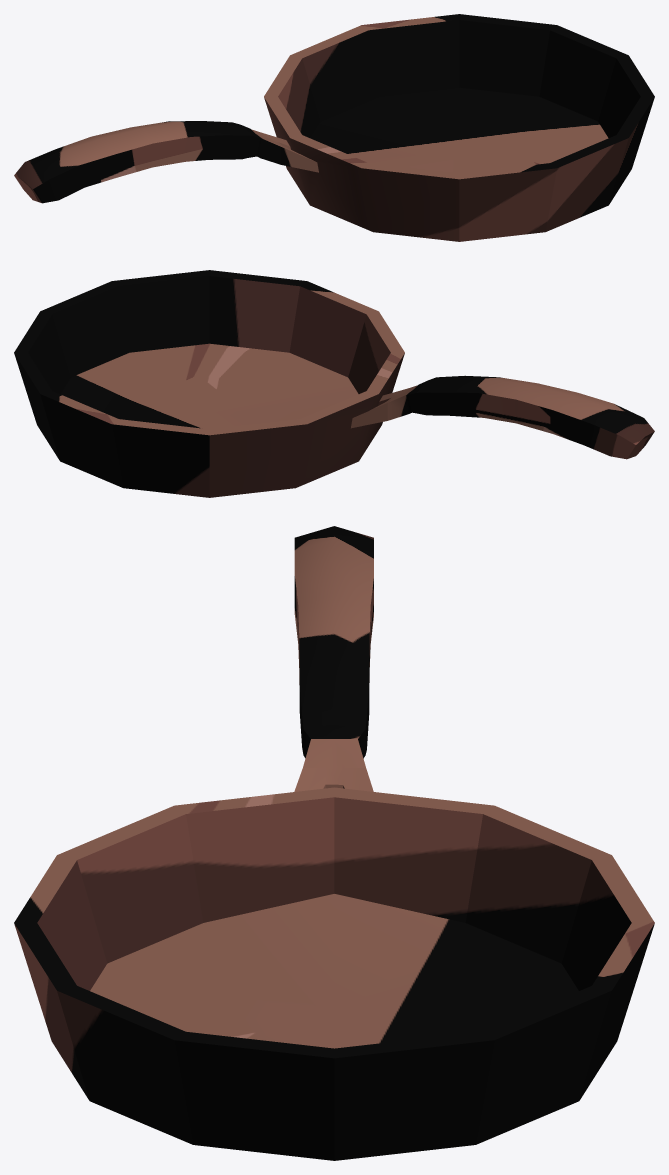
Rendered from frying_pan_v1.fbx.
3 views of the same model, one above another, from view 1: azimuth 30°, elevation 25°; view 2: azimuth 150°, elevation 25°; view 3: azimuth 270°, elevation 25° (orthographic). The views are drawn at different scales.
Visible parts, largest first — view 1: frying_pan; view 2: frying_pan; view 3: frying_pan.
Boxes of the visible parts, x1,y1,x2,y2 form: frying_pan: [14, 14, 654, 241]; frying_pan: [14, 270, 654, 497]; frying_pan: [14, 526, 654, 1160].
Bounding box in the file's own units: 35.74 × 6.65 × 20.
